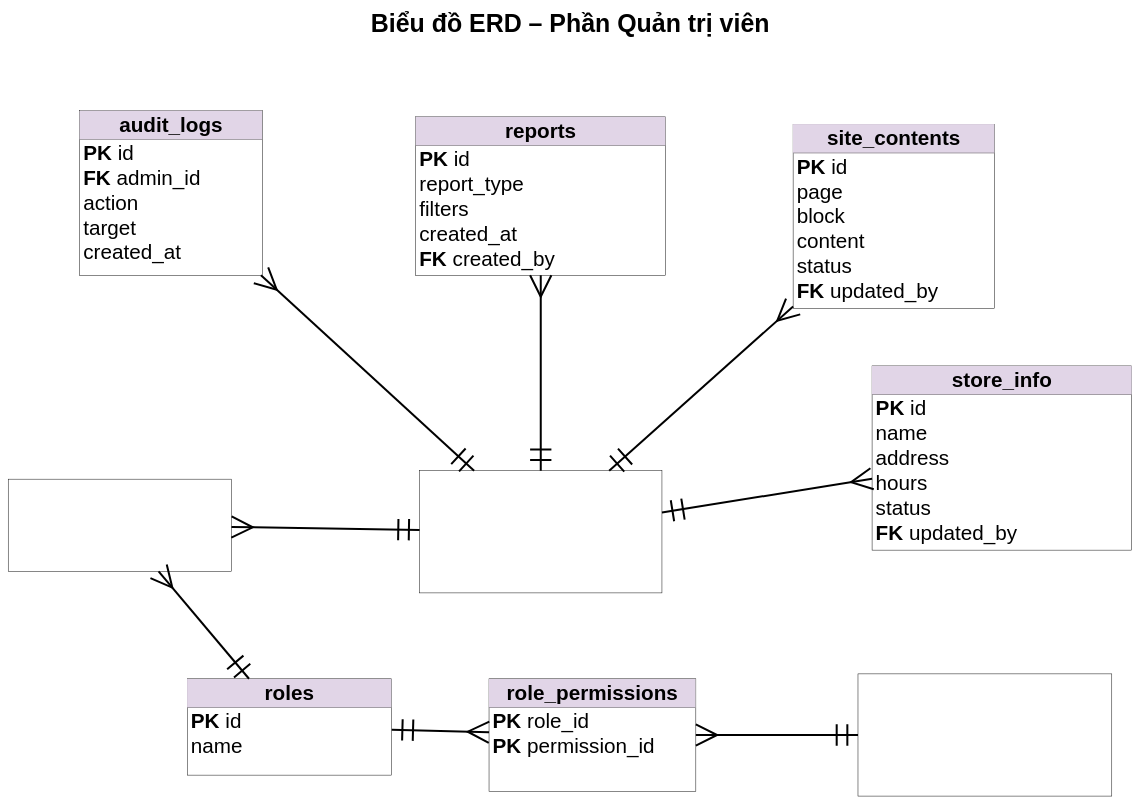
The diagram is 1140 pixels wide and 804 high, and some of its shapes have lost their labels. The shapes that lost their labels are listed below. From the top down, each one's centre as x and y in pixels, then its label:
At (x=119, y=525): "admin_user_roles PK admin_id PK role_id".
At (x=540, y=531): "admin_users PK id username status".
At (x=985, y=734): "permissions PK id code description".
